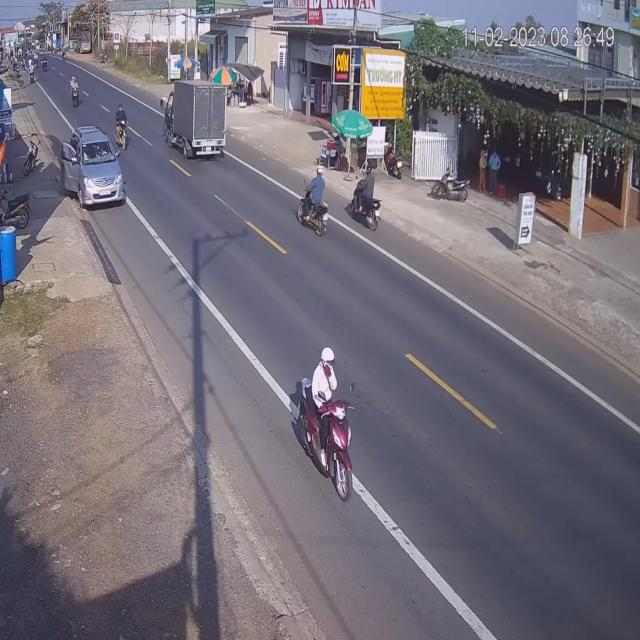car: (63, 130, 124, 211)
motorbike: (293, 346, 357, 502), (298, 168, 330, 238), (348, 168, 381, 234), (116, 107, 130, 152), (72, 75, 82, 108)
truck: (167, 82, 228, 161)
